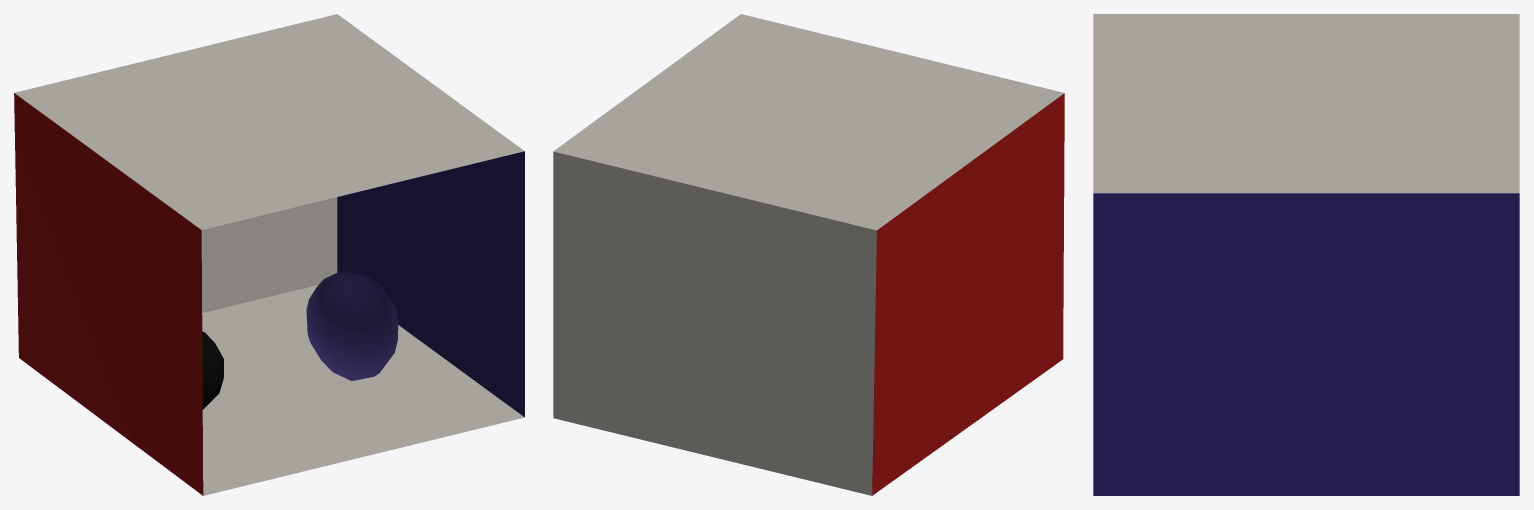
The model's file is CornellBox-Ellipsoid-480.obj.
3 views of the same model, side by side, from view 1: azimuth 30°, elevation 25°; view 2: azimuth 150°, elevation 25°; view 3: azimuth 270°, elevation 25° (orthographic). The views are drawn at different scales.
Parts seen in each view (by area): view 1: ceiling, leftWall, floor, rightWall, backWall, leftSphere, rightSphere; view 2: backWall, ceiling, leftWall; view 3: rightWall, ceiling.
Part boxes in pixels (left/top/right/bottom): ceiling: left=14, top=14, right=524, bottom=229; leftWall: left=14, top=93, right=203, bottom=495; floor: left=202, top=285, right=524, bottom=495; rightWall: left=337, top=151, right=524, bottom=417; backWall: left=201, top=197, right=337, bottom=312; leftSphere: left=306, top=271, right=398, bottom=380; rightSphere: left=202, top=331, right=223, bottom=409; backWall: left=553, top=151, right=876, bottom=495; ceiling: left=553, top=14, right=1064, bottom=230; leftWall: left=872, top=93, right=1064, bottom=495; rightWall: left=1093, top=193, right=1519, bottom=495; ceiling: left=1093, top=14, right=1519, bottom=193.
Bounding box in the file's own units: 2.02 × 1.59 × 2.03.
